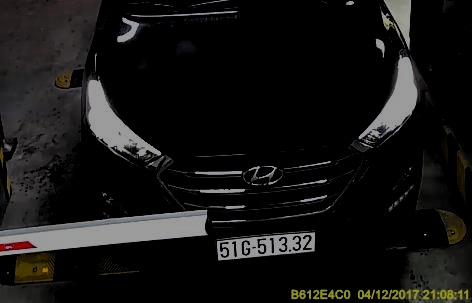plate: (216, 230, 314, 260)
